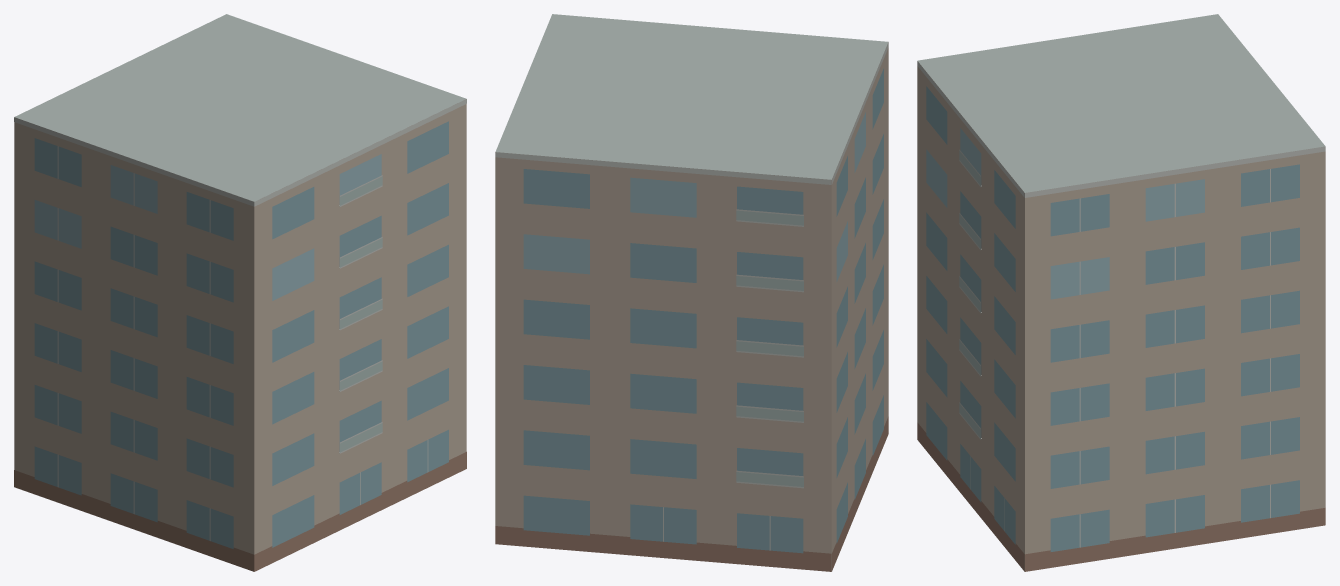
Rendered from survey-upis-32904263.glb.
3 views of the same model, side by side, from view 1: azimuth 30°, elevation 25°; view 2: azimuth 150°, elevation 25°; view 3: azimuth 270°, elevation 25° (orthographic). The views are drawn at different scales.
Parts seen in each view (by area): view 1: survey-upis-32904263.tmp; view 2: survey-upis-32904263.tmp; view 3: survey-upis-32904263.tmp.
Boxes of the visible parts, box(x1,y1,x2,y2) form: survey-upis-32904263.tmp: box(14, 14, 466, 571); survey-upis-32904263.tmp: box(495, 14, 888, 571); survey-upis-32904263.tmp: box(917, 14, 1325, 571).
Size of the model in its own units: 18.55 by 18.3 by 17.89.
